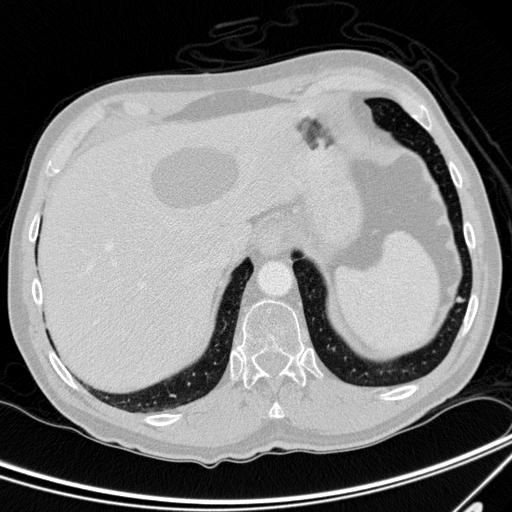nodule: (454, 294, 465, 305)
